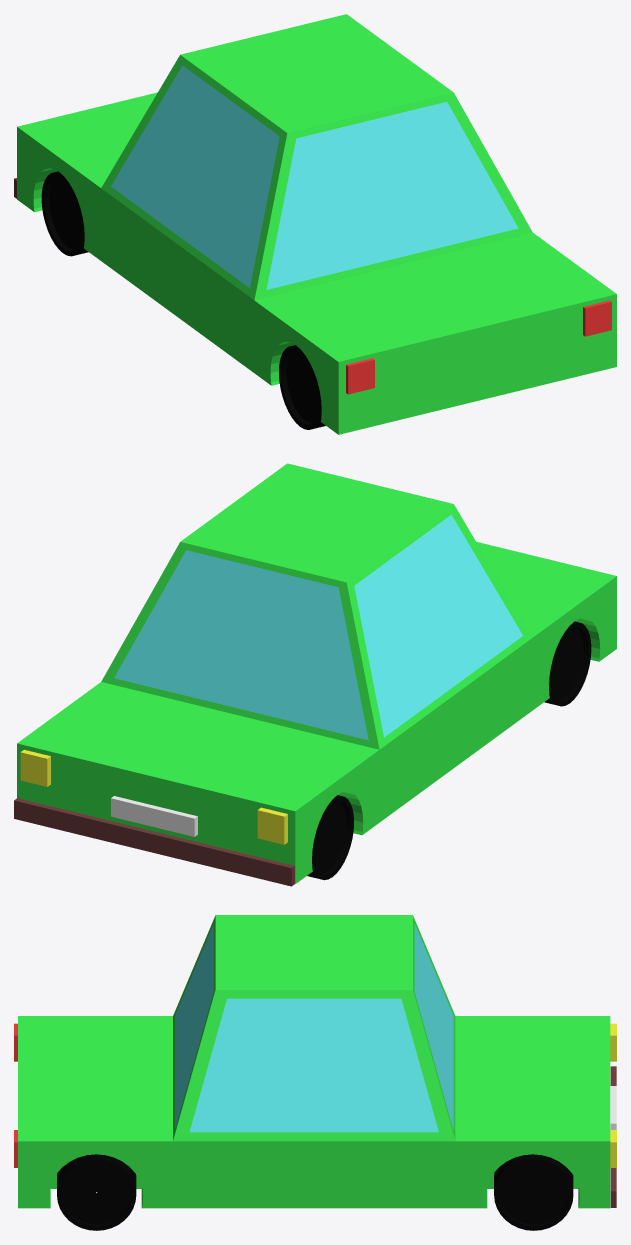
File: car.glb
3 renders of one model, top to bottom at view 1: azimuth 30°, elevation 25°; view 2: azimuth 150°, elevation 25°; view 3: azimuth 270°, elevation 25°, orthographic. The views are drawn at different scales.
Visible parts, largest first — view 1: Car; view 2: Car; view 3: Car.
Boxes of the visible parts, x1,y1,x2,y2 form: Car: [14, 14, 616, 434]; Car: [14, 463, 616, 886]; Car: [14, 915, 616, 1230].
Bounding box in the file's own units: 4 × 3.21 × 8.14.
Materials: 1 (1 with a texture image).
